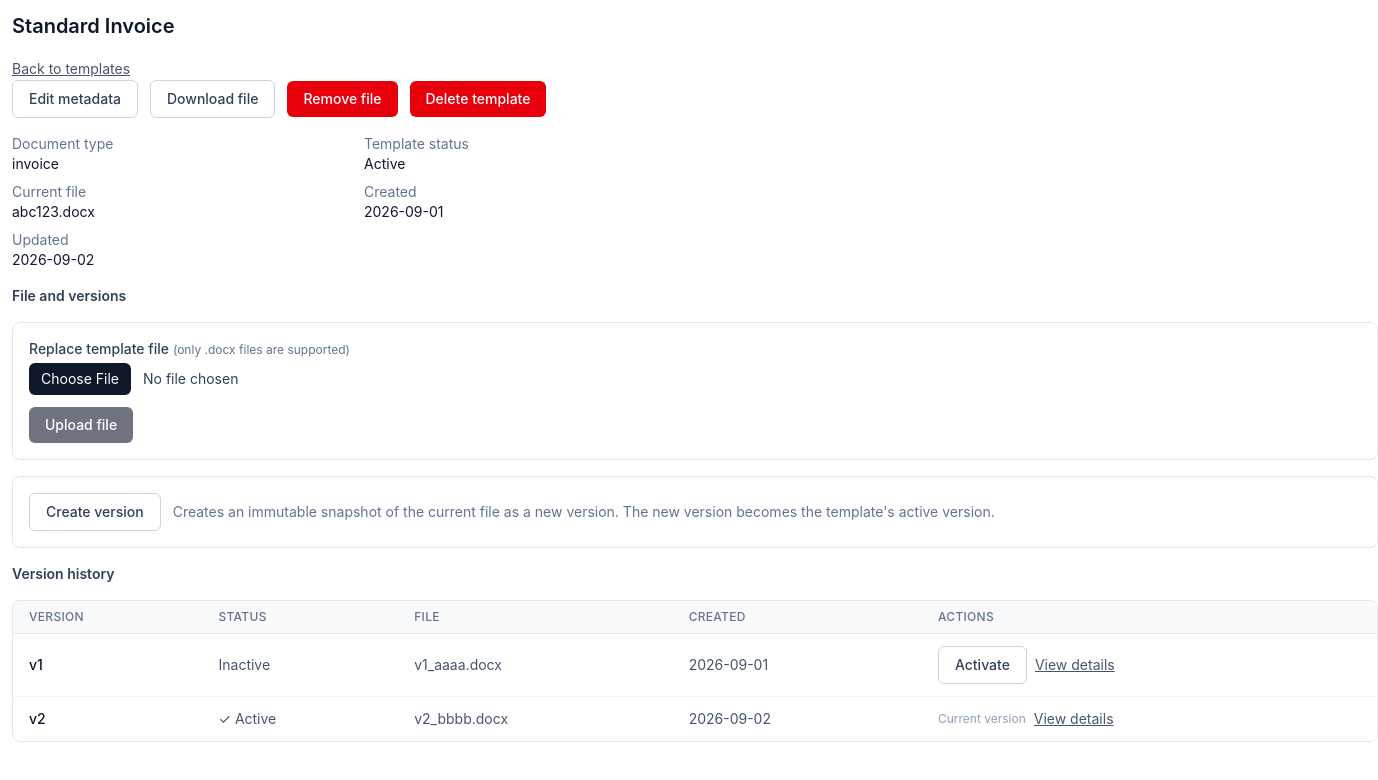
Test case: TemplateDetailPage › shows a safe error when the download fails
Expected: the heading "Standard Invoice" is shown, 12,14 -> 175,38
What coordinates should you click on to do the following:
click the button "Download file"
I would click on:
 (213, 99)
Its box is 150,80 -> 276,118.
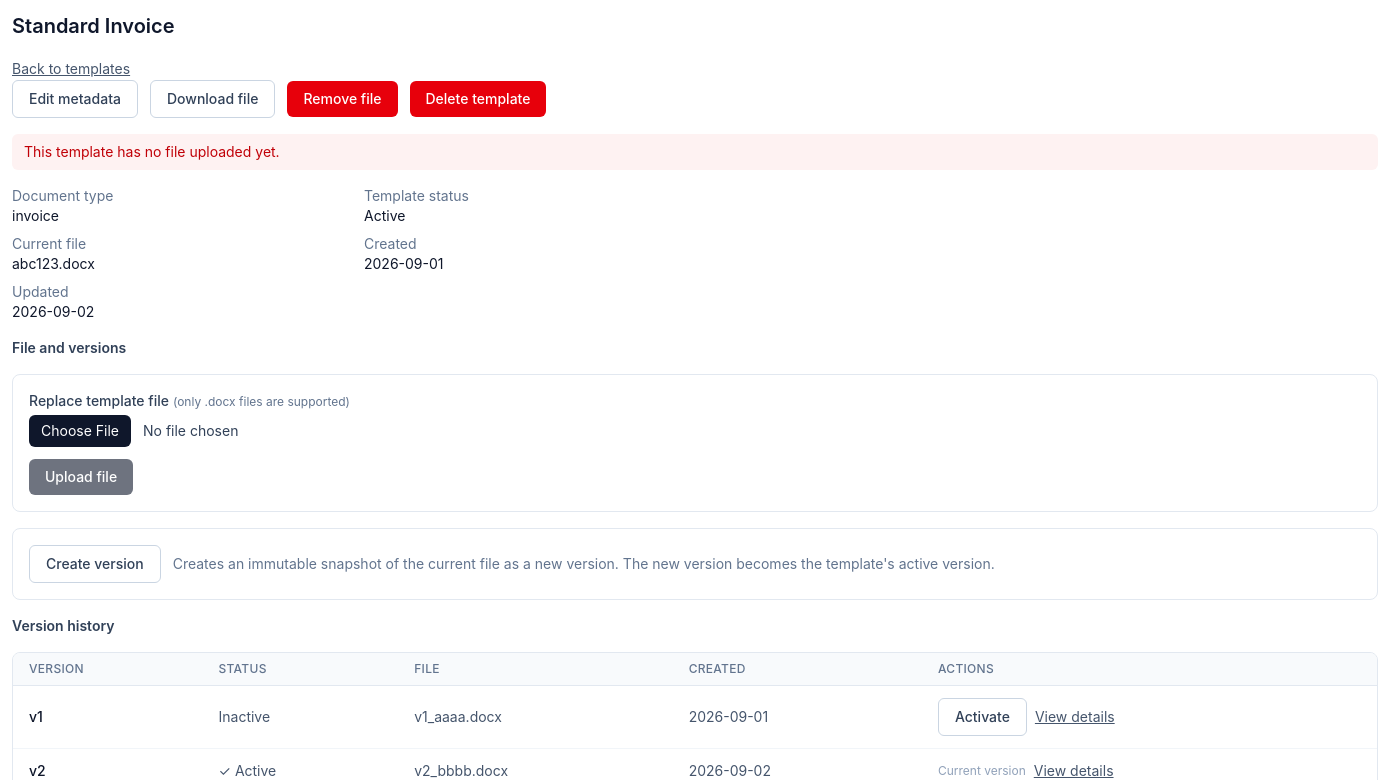
Expected: the message shows "no file uploaded yet", 24,143 -> 280,160
